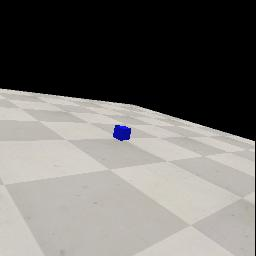box: (113, 125, 131, 141)
